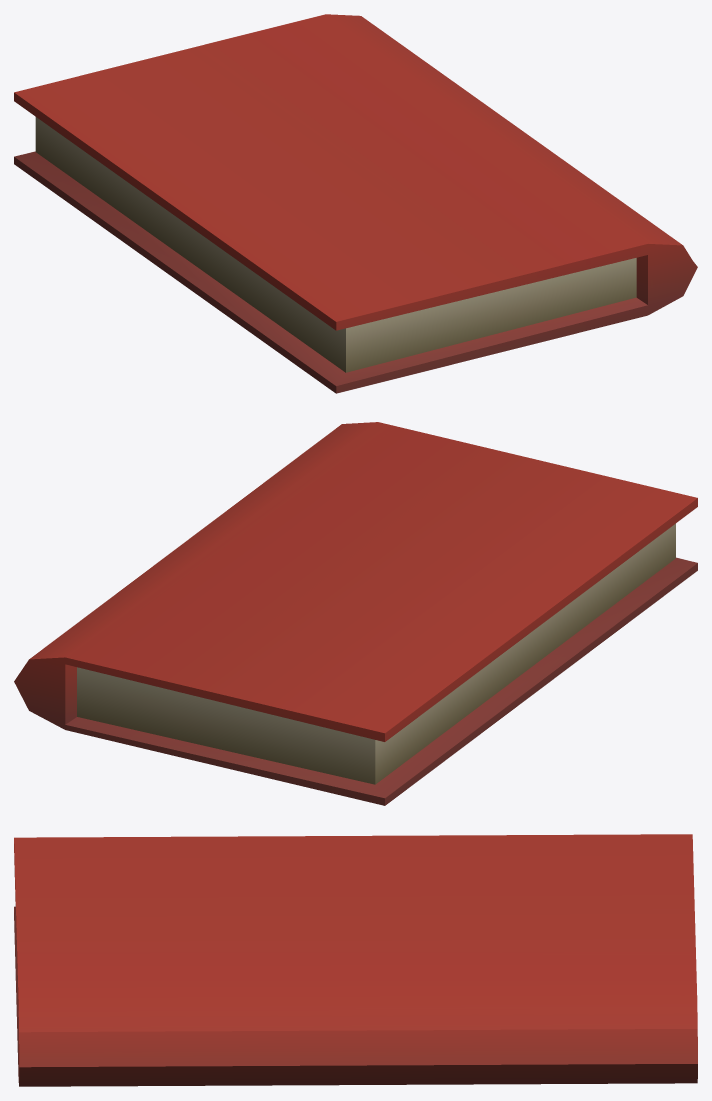
The model's file is BookSmall.fbx.
The picture shows the model from 3 angles, top to bottom: view 1: azimuth 30°, elevation 25°; view 2: azimuth 150°, elevation 25°; view 3: azimuth 270°, elevation 25°; orthographic projection. The views are drawn at different scales.
Parts seen in each view (by area): view 1: BookSmall; view 2: BookSmall; view 3: BookSmall.
Part boxes in pixels (<box>): BookSmall: <box>14,14,697,393</box>; BookSmall: <box>14,422,697,805</box>; BookSmall: <box>14,834,697,1086</box>.
Bounding box in the file's own units: 0.1386 × 0.2061 × 0.0256.
